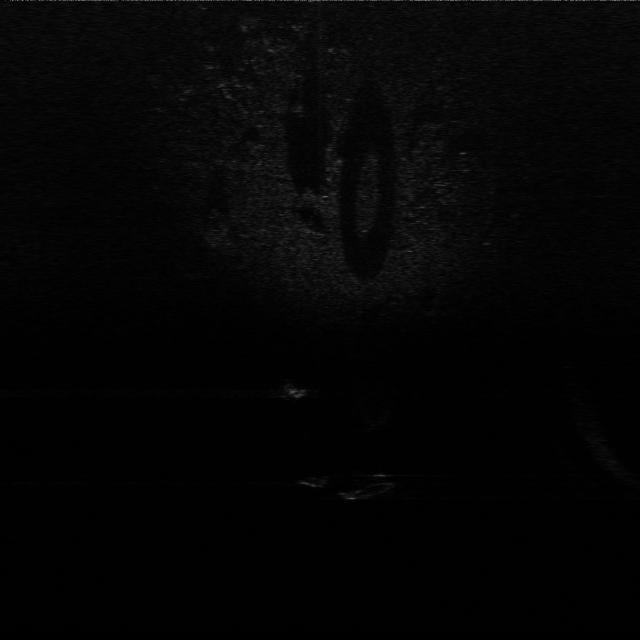cube: (296, 465, 332, 491)
square cage: (278, 376, 318, 403)
tyre: (340, 469, 400, 503)
